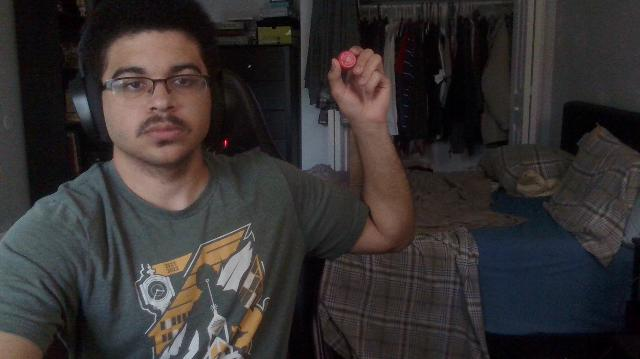cap: (338, 50, 357, 70)
